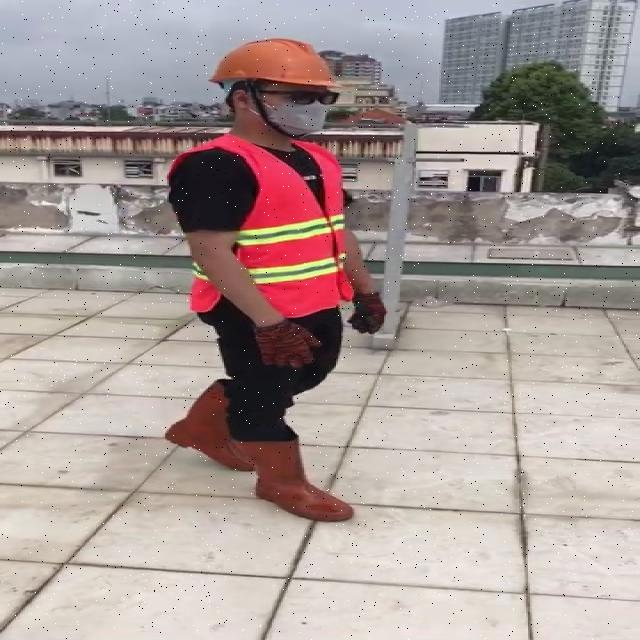Hard_hat: (202, 31, 345, 102)
Vest: (226, 136, 345, 328)
